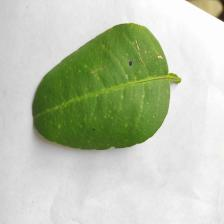greening: (25, 19, 124, 163)
